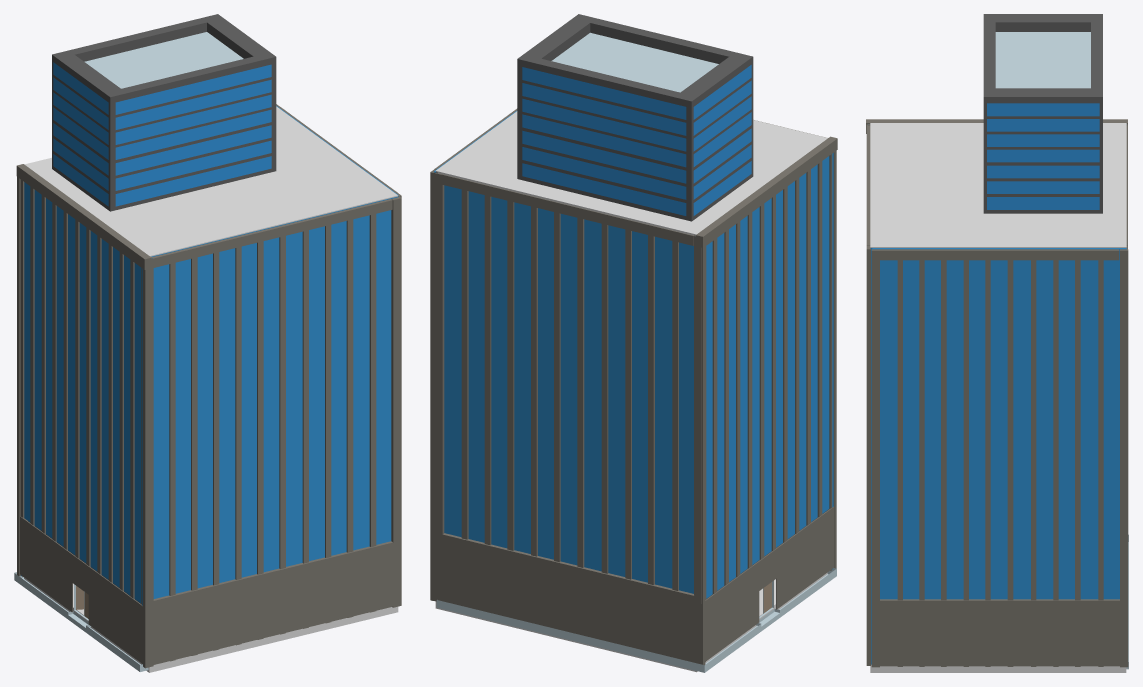
The model's file is Matrix_Building_edited_V2.fbx.
3 views of the same model, side by side, from view 1: azimuth 30°, elevation 25°; view 2: azimuth 150°, elevation 25°; view 3: azimuth 270°, elevation 25° (orthographic). The views are drawn at different scales.
Parts seen in each view (by area): view 1: wall.002, Skyscraper4, Cube, Cube.006, roof, Door Front, roof.001, wall.001; view 2: wall.001, Skyscraper4, Cube, Cube.006, roof, Door Front, wall.002, wall, roof.001; view 3: wall, Skyscraper4, roof, wall.002, roof.001, Cube.006.
Boxes of the visible parts, x1,y1,x2,y2 form: wall.002: [141, 196, 401, 668]; Skyscraper4: [14, 14, 276, 671]; Cube: [24, 182, 152, 603]; Cube.006: [16, 164, 151, 604]; roof: [24, 106, 398, 256]; Door Front: [20, 516, 142, 663]; roof.001: [24, 577, 398, 672]; wall.001: [17, 177, 27, 576]; wall.001: [433, 172, 705, 665]; Skyscraper4: [436, 14, 836, 672]; Cube: [694, 156, 829, 598]; Cube.006: [695, 136, 837, 603]; roof: [435, 111, 827, 235]; Door Front: [705, 507, 833, 661]; wall.002: [754, 120, 836, 570]; wall: [430, 108, 517, 600]; roof.001: [435, 572, 827, 672]; wall: [871, 248, 1128, 667]; Skyscraper4: [983, 14, 1128, 669]; roof: [870, 123, 1126, 247]; wall.002: [866, 124, 872, 665]; roof.001: [870, 664, 1126, 672]; Cube.006: [866, 119, 1127, 248].
Bounding box in the file's own units: 462 × 897 × 394.
